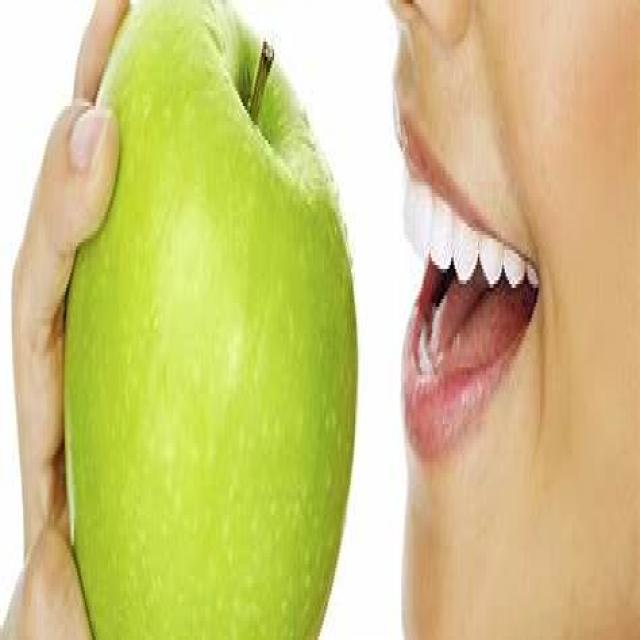Apple: (62, 0, 360, 640)
